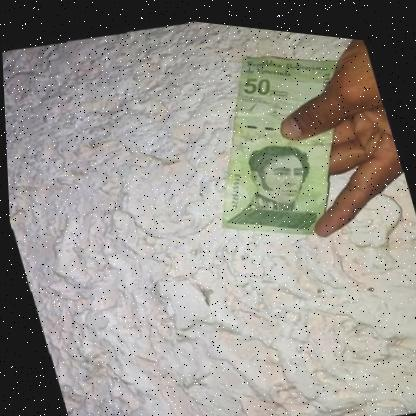fifty-front-vef: (174, 21, 385, 256)
